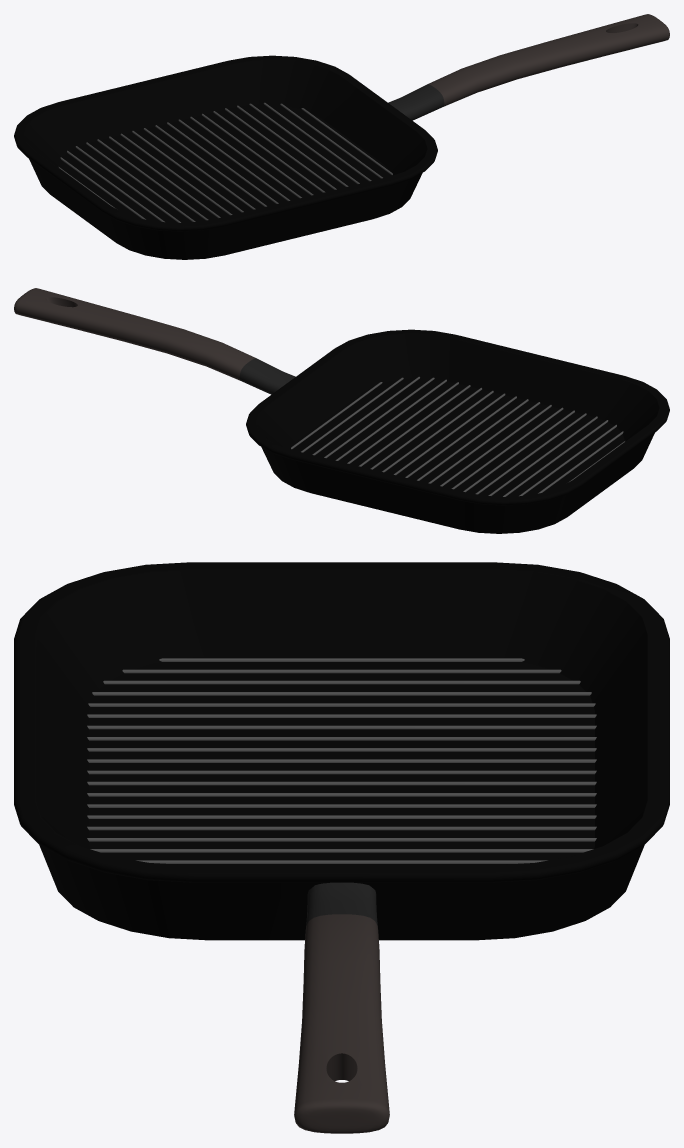
Rendered from pan_grill.obj.
3 renders of one model, top to bottom at view 1: azimuth 30°, elevation 25°; view 2: azimuth 150°, elevation 25°; view 3: azimuth 270°, elevation 25°, orthographic. The views are drawn at different scales.
Visible parts, largest first — view 1: pan_grill.001; view 2: pan_grill.001; view 3: pan_grill.001.
Boxes of the visible parts, left/top/right/bottom form: pan_grill.001: left=14, top=14, right=669, bottom=259; pan_grill.001: left=14, top=288, right=669, bottom=533; pan_grill.001: left=14, top=562, right=669, bottom=1133.
Bounding box in the file's own units: 0.5327 × 0.0509 × 0.2561.
